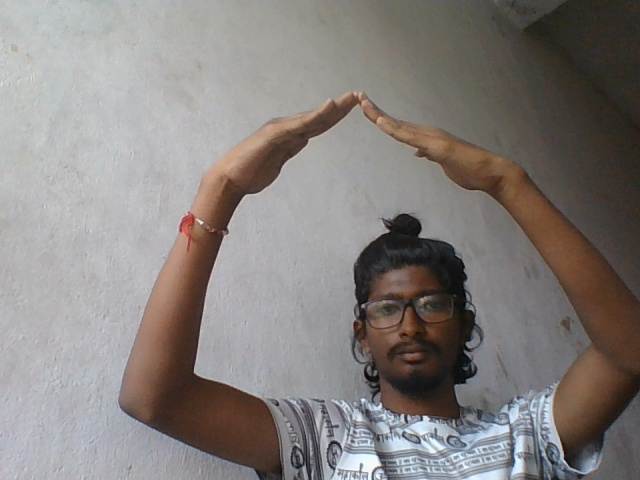Good: (185, 85, 550, 215)
